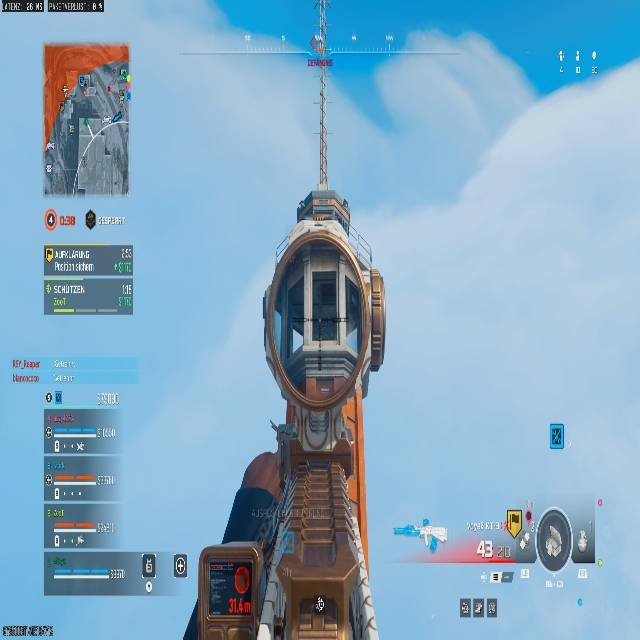head: (260, 189, 384, 440), (294, 187, 352, 231)
player: (218, 174, 383, 640)
